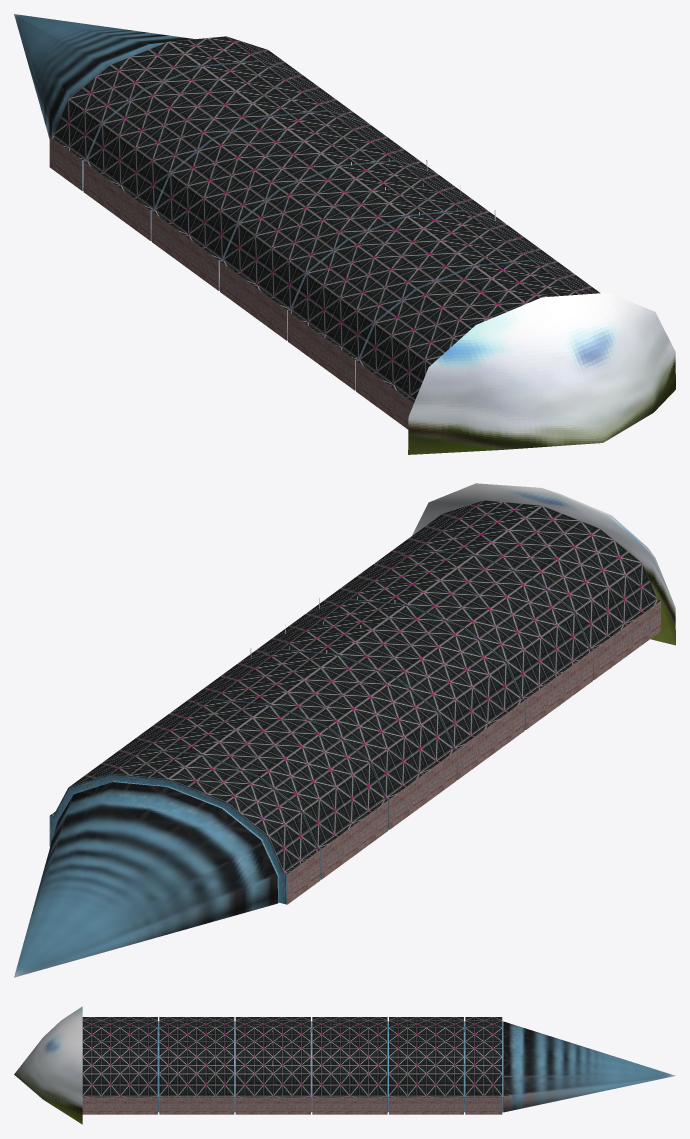
The model's file is ENVI_MaxFactory.obj.
3 renders of one model, top to bottom at view 1: azimuth 30°, elevation 25°; view 2: azimuth 150°, elevation 25°; view 3: azimuth 270°, elevation 25°, orthographic. The views are drawn at different scales.
Visible parts, largest first — view 1: MaxFactory; view 2: MaxFactory; view 3: MaxFactory.
Part boxes in pixels (x1,y1,x2,y2): MaxFactory: (14, 14, 675, 454); MaxFactory: (14, 483, 675, 977); MaxFactory: (14, 1006, 675, 1124).
Size of what is drawn, in the model's own units: 2837 by 1265 by 10809.
Materials: 10 (7 with a texture image).
